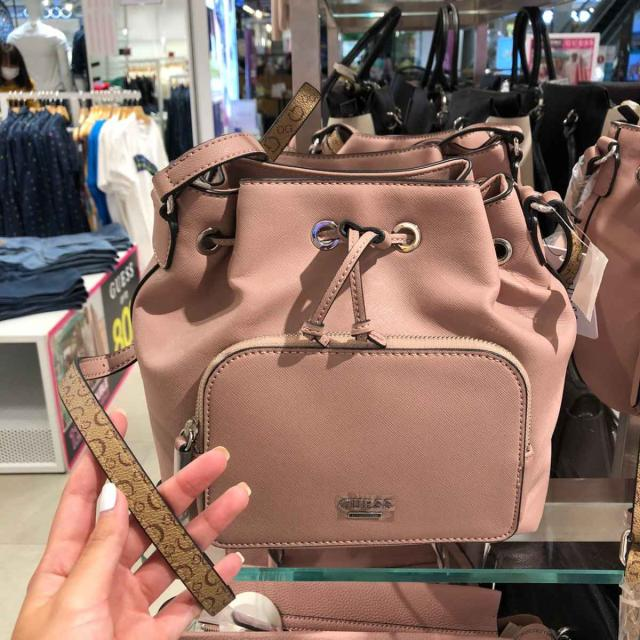Handbag: (156, 131, 581, 548)
